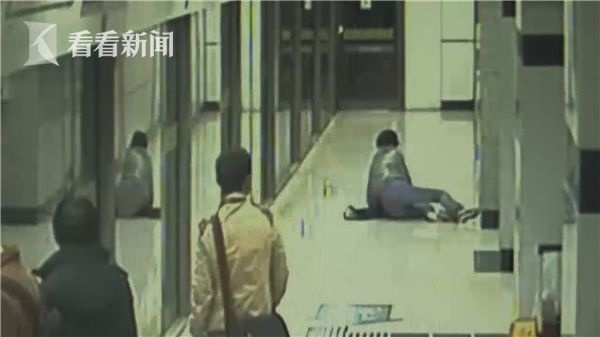falling: (99, 127, 162, 218)
